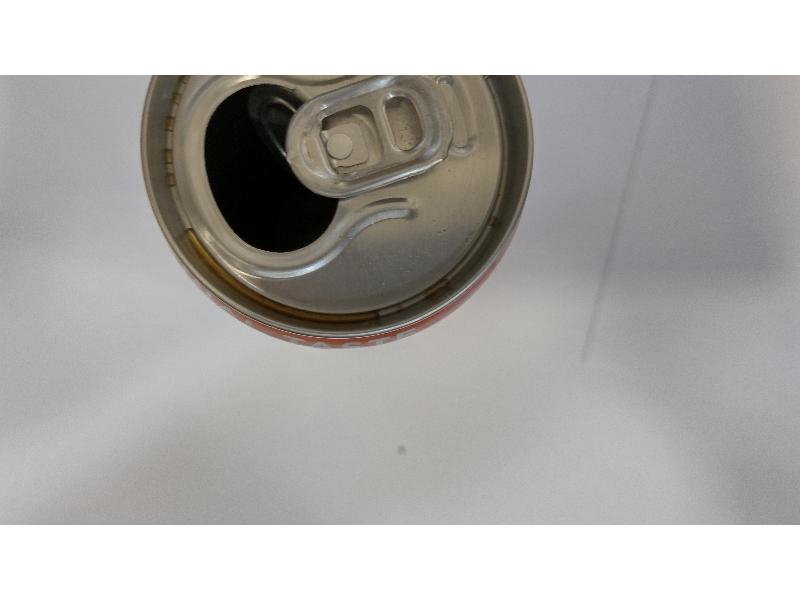can: (141, 74, 536, 352)
